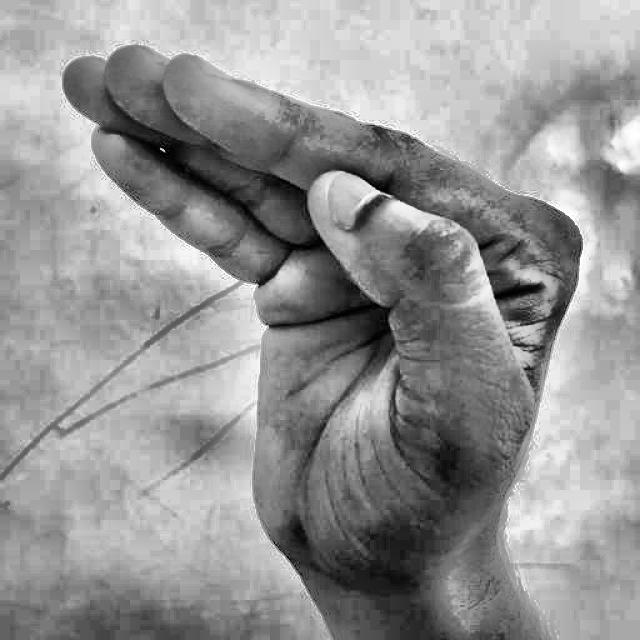Ga: (37, 20, 604, 608)
